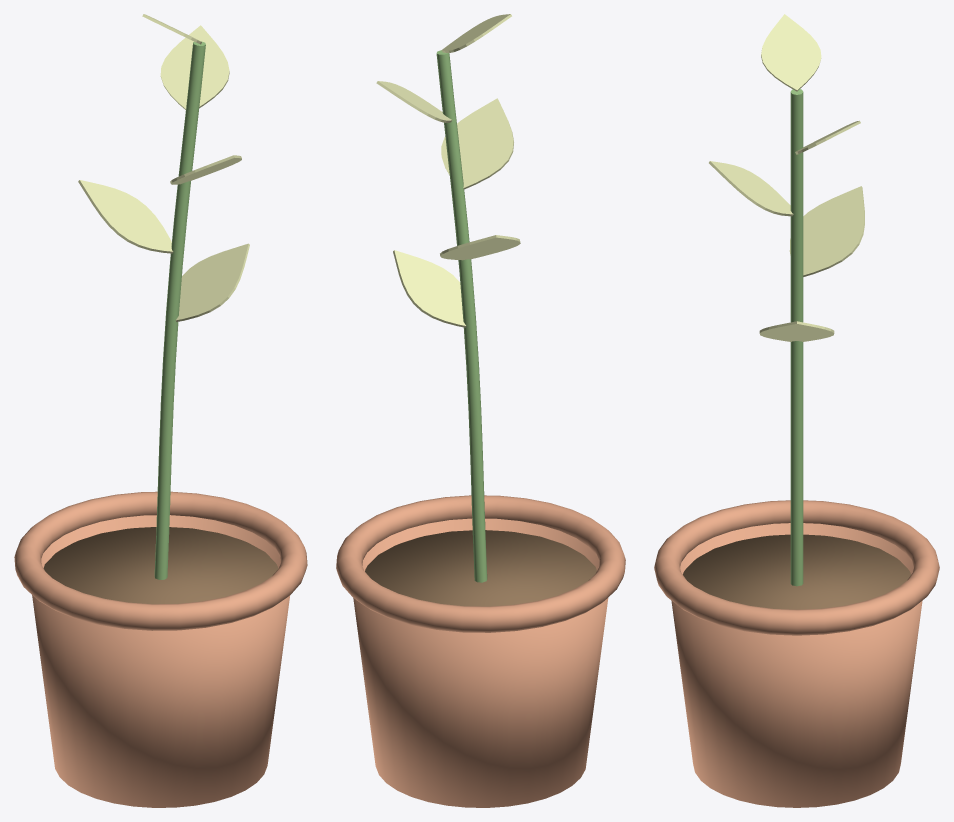
File: plant_no_light.glb
3 renders of one model, left to right at view 1: azimuth 30°, elevation 25°; view 2: azimuth 150°, elevation 25°; view 3: azimuth 270°, elevation 25°, orthographic. The views are drawn at different scales.
Visible parts, largest first — view 1: pot_body, pot_rim, soil, plant_stem, plant_leaf0, plant_leaf1, plant_leaf3, plant_leaf2; view 2: pot_body, pot_rim, soil, plant_stem, plant_leaf2, plant_leaf0, plant_leaf1, plant_leaf3, plant_leaf4; view 3: pot_body, pot_rim, soil, plant_stem, plant_leaf1, plant_leaf4, plant_leaf2, plant_leaf0.
Part boxes in pixels (x1,y1,x2,y2): pot_body: (32, 515, 289, 807); pot_rim: (14, 491, 307, 630); soil: (43, 527, 278, 604); plant_stem: (154, 41, 205, 579); plant_leaf0: (176, 243, 249, 321); plant_leaf1: (78, 180, 173, 253); plant_leaf3: (160, 25, 229, 109); plant_leaf2: (170, 155, 241, 184); pot_body: (353, 518, 608, 807); pot_rim: (336, 495, 625, 632); soil: (365, 530, 596, 606); plant_stem: (436, 50, 487, 582); plant_leaf2: (441, 98, 513, 189); plant_leaf0: (393, 250, 466, 327); plant_leaf1: (440, 235, 520, 260); plant_leaf3: (376, 81, 452, 122); plant_leaf4: (441, 14, 511, 52); pot_body: (671, 523, 922, 807); pot_rim: (654, 500, 939, 635); soil: (683, 534, 910, 609); plant_stem: (790, 89, 803, 586); plant_leaf1: (789, 186, 864, 276); plant_leaf4: (761, 14, 821, 91); plant_leaf2: (709, 161, 793, 216); plant_leaf0: (759, 321, 834, 341).
Size of the model in its own units: 0.132 by 0.3765 by 0.132.
